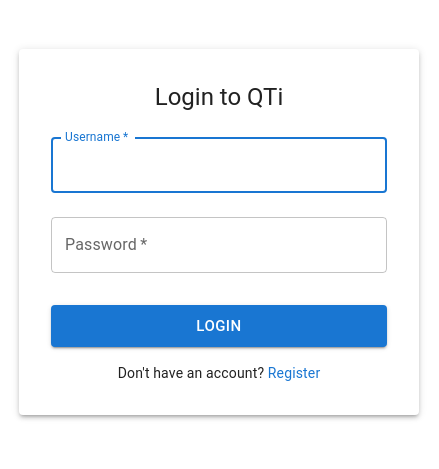
Test: Authentication Integration › Login Flow › should handle login error
# Fill in login form
In the field labelled "Username *": (219, 165) [51,137,387,193], type "testuser"
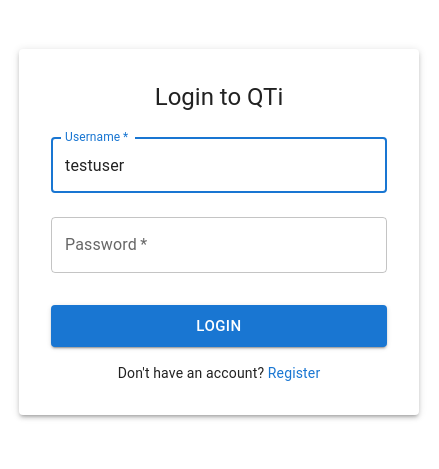
In the password field labelled "Password *": (219, 245) [51,217,387,273], type "wrongpassword"
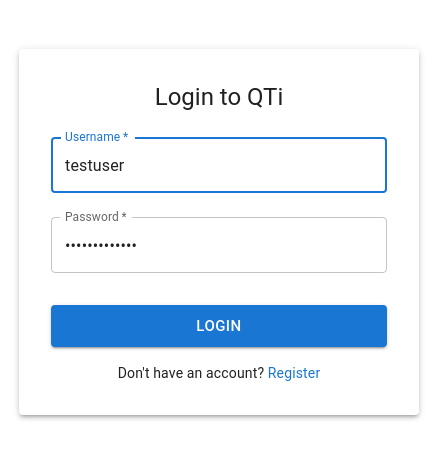
# Submit form
Click the button "Login": (219, 326) [51,305,387,347]
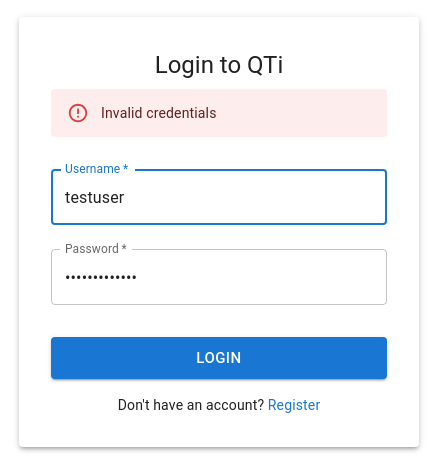
Now the text "Invalid credentials" is shown, box [101,105,216,121]
